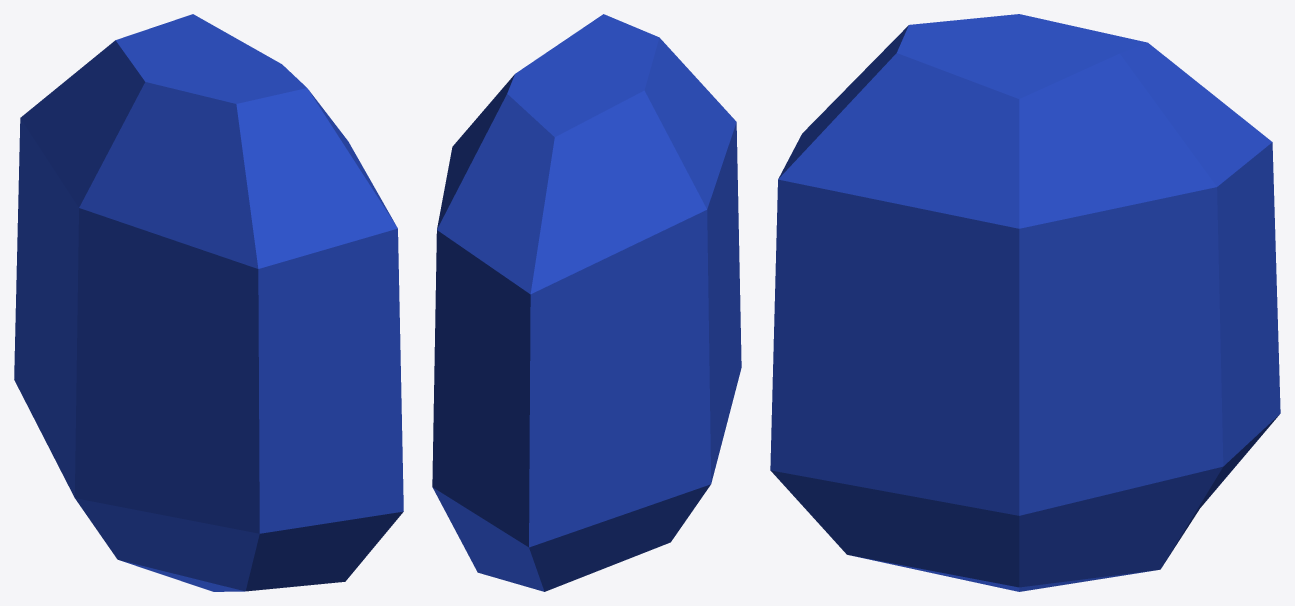
File: SM_Sapphire_Flawed.fbx
3 views of the same model, side by side, from view 1: azimuth 30°, elevation 25°; view 2: azimuth 150°, elevation 25°; view 3: azimuth 270°, elevation 25° (orthographic). The views are drawn at different scales.
Visible parts, largest first — view 1: SM_Sapphire_Flawed; view 2: SM_Sapphire_Flawed; view 3: SM_Sapphire_Flawed.
Part boxes in pixels (<box>): SM_Sapphire_Flawed: <box>14,14,403,591</box>; SM_Sapphire_Flawed: <box>432,14,741,591</box>; SM_Sapphire_Flawed: <box>770,14,1280,591</box>.
Bounding box in the file's own units: 9.36 × 14.42 × 17.35.
